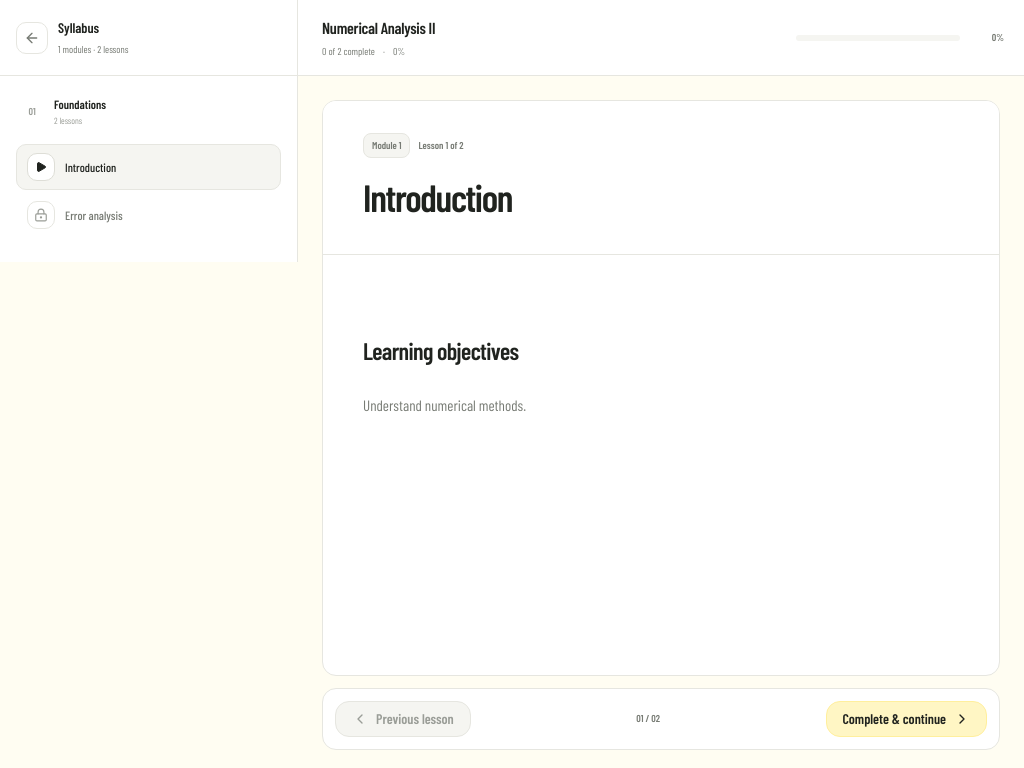
Test: CourseViewerClient › renders the redesigned reader and unlocks the next prerequisite after completion
This screenshot has width=1024, height=768.
Check: the heading "Syllabus" is shown, box [58, 19, 99, 36]
Check: the heading "Numerical Analysis II" is shown, box [322, 18, 435, 37]
Click the button "Error analysis".
click(94, 214)  # box [16, 192, 281, 238]
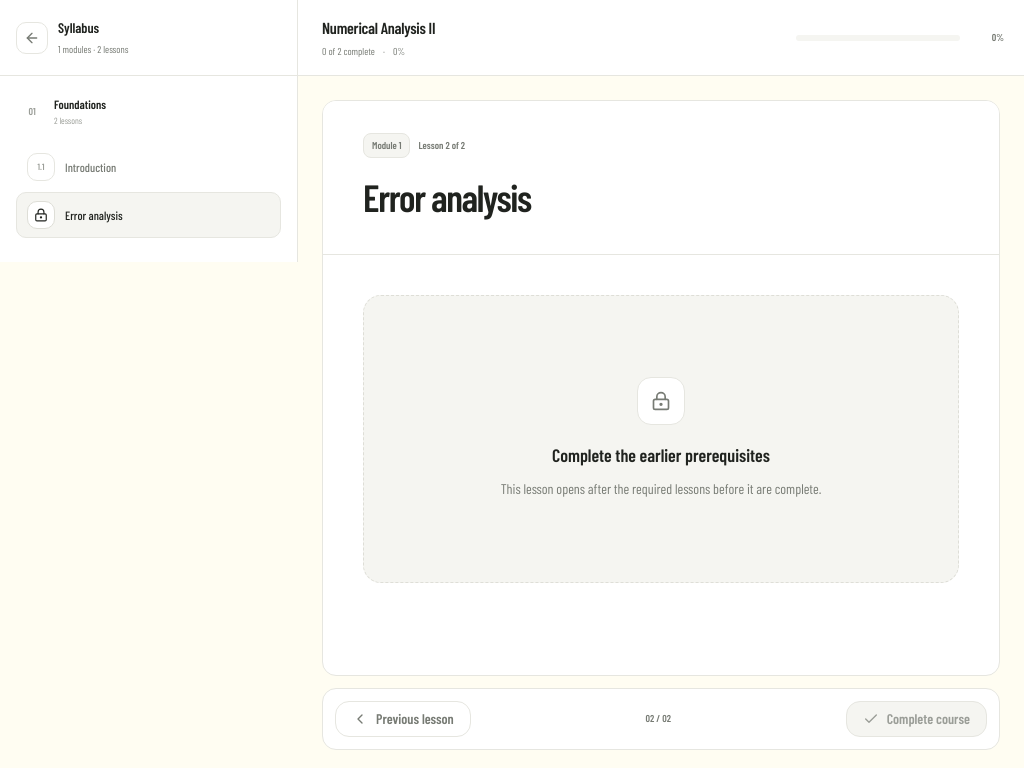
Check: the heading "Complete the earlier prerequisites" is shown, box [552, 440, 770, 468]
Click the button "1.1 Introduction".
click(91, 166)  # box [16, 144, 281, 190]
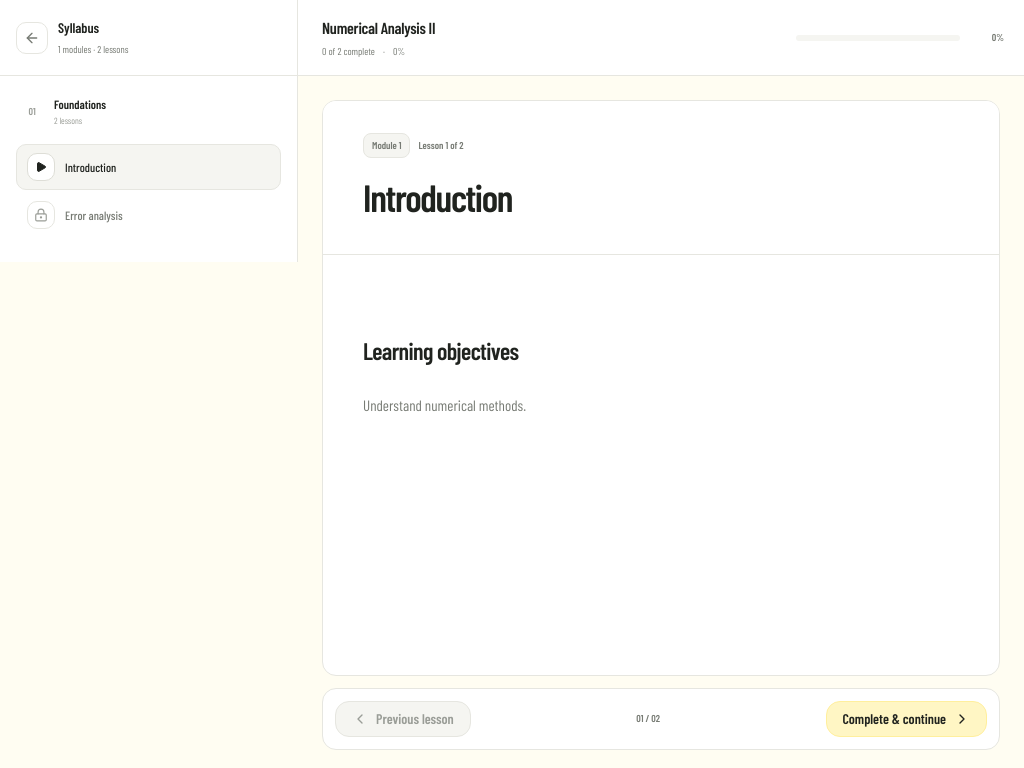
Click the button "Complete & continue".
click(906, 718)  # box [826, 700, 987, 736]
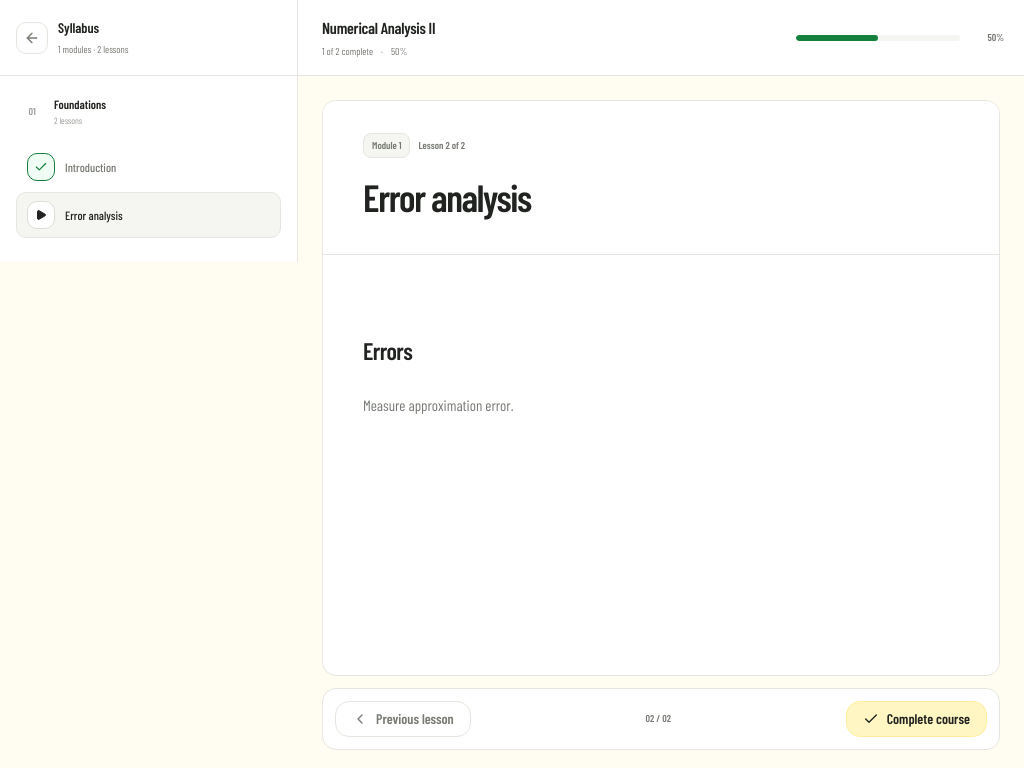
Check: the heading "Error analysis" is shown, box [363, 174, 531, 220]
Check: the heading "Errors" is shown, box [363, 336, 412, 364]
Check: the text "1 of 2 complete" is shown, box [322, 44, 373, 59]
